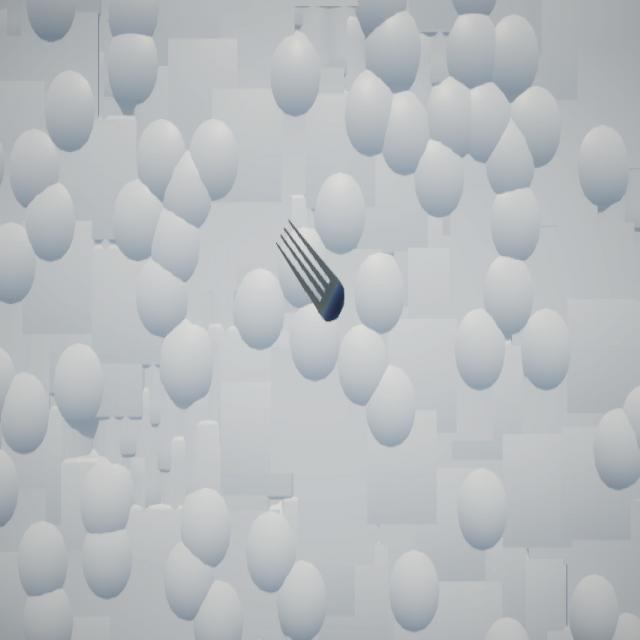top_folk: (277, 221, 345, 324)
